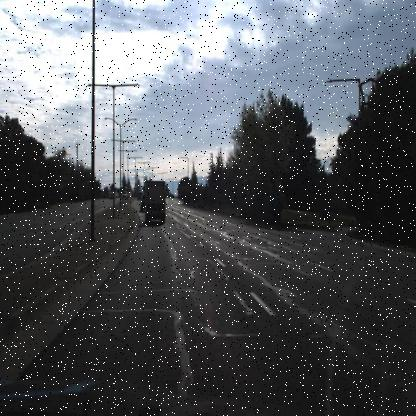car: (138, 190, 146, 215), (139, 192, 145, 212), (137, 190, 143, 200)
truck: (144, 180, 166, 225)
